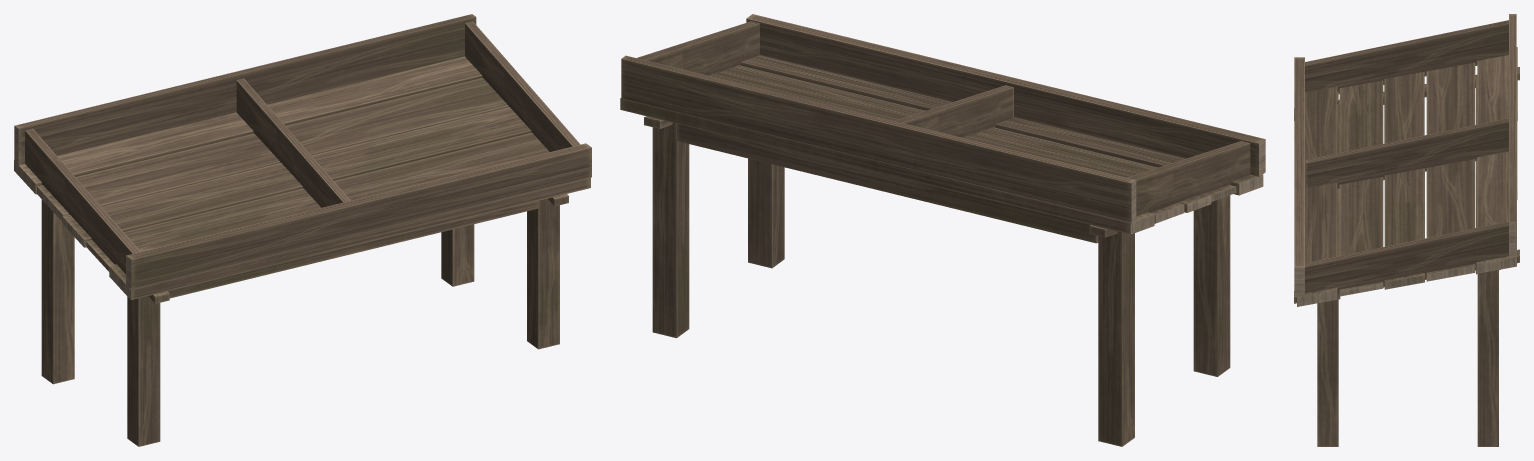
File: SM_table_03.fbx
The picture shows the model from 3 angles, left to right: view 1: azimuth 30°, elevation 25°; view 2: azimuth 150°, elevation 25°; view 3: azimuth 270°, elevation 25°; orthographic projection. The views are drawn at different scales.
Parts seen in each view (by area): view 1: Object32474; view 2: Object32474; view 3: Object32474.
Boxes of the visible parts, box(x1,y1,x2,y2) form: Object32474: box(14, 14, 591, 446); Object32474: box(620, 14, 1265, 446); Object32474: box(1294, 14, 1519, 446).
Size of the model in its own units: 82.72 by 42.5 by 37.45.
